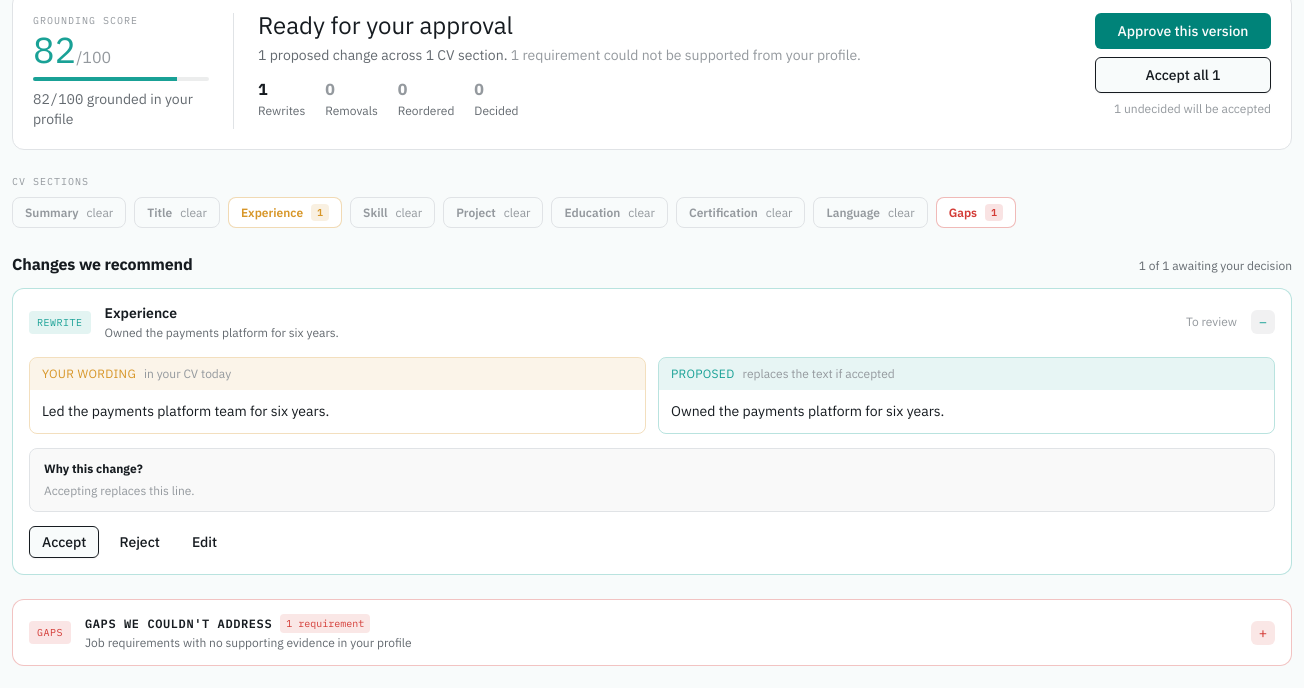
splitting a gap's detail › renders WHAT in the collapsed row and WHY in the expansion
What coordinates should you click on to do the following:
click the button with test id "gaps-toggle"
I would click on:
 (50, 633)
Its box is [13,600,1291,665].
(page scrolled)
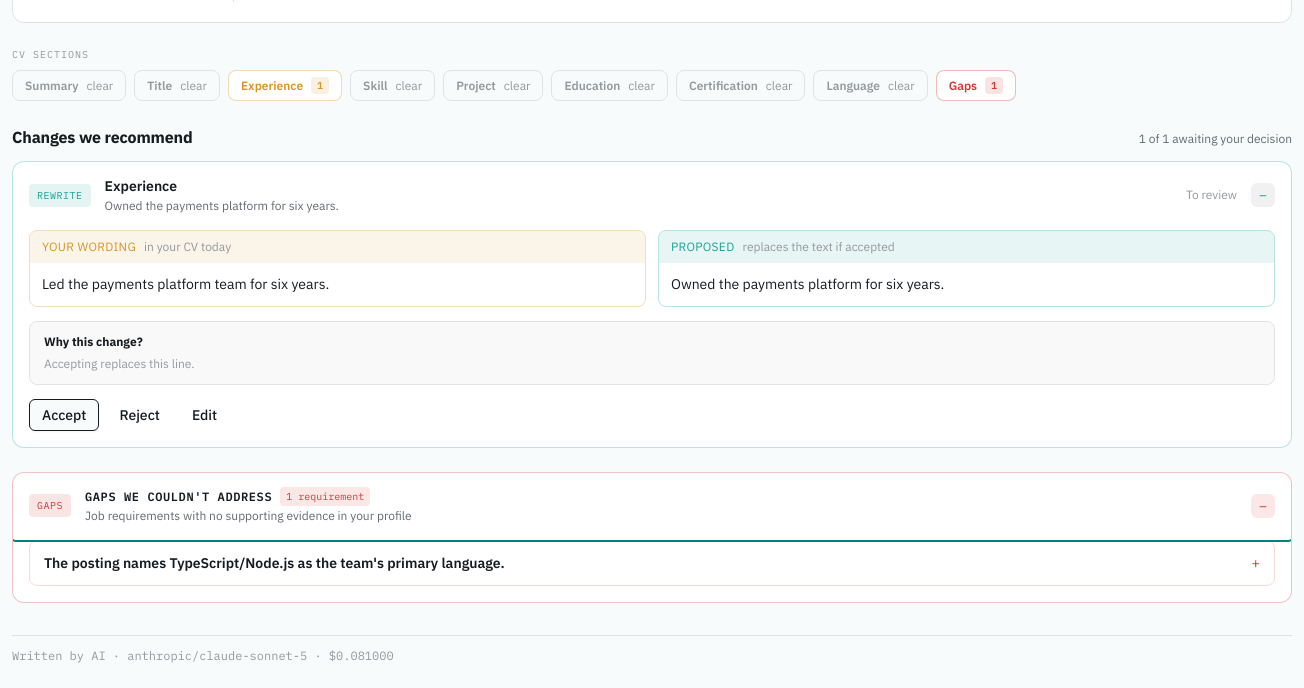
Expected: the button "typescript/node.js" does not show "The resume lists C++"
What coordinates should you click on to do the following:
click the button "TypeScript/Node.js"
I would click on:
 (274, 563)
Its box is [30,541,1274,585].
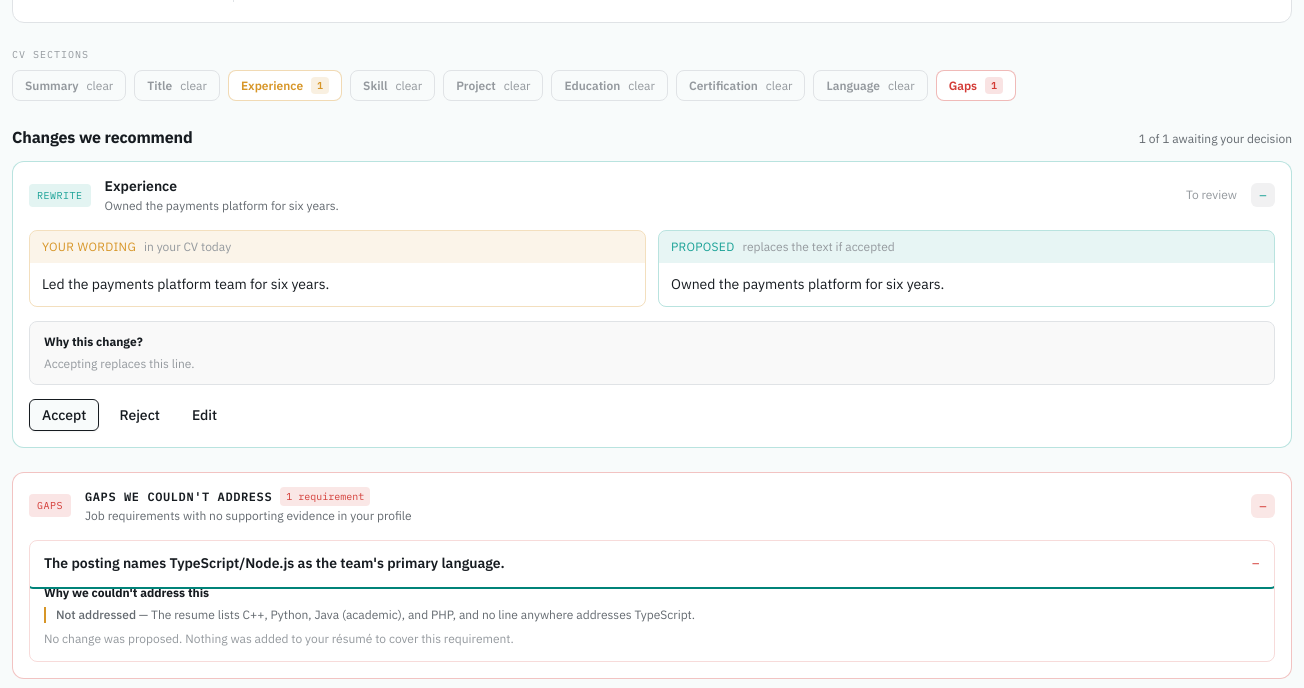
Expected: the element with test id "finding" does not show "primary language."
Now the list item with test id "finding" shows "The resume lists C++", box [151,607,695,622]
